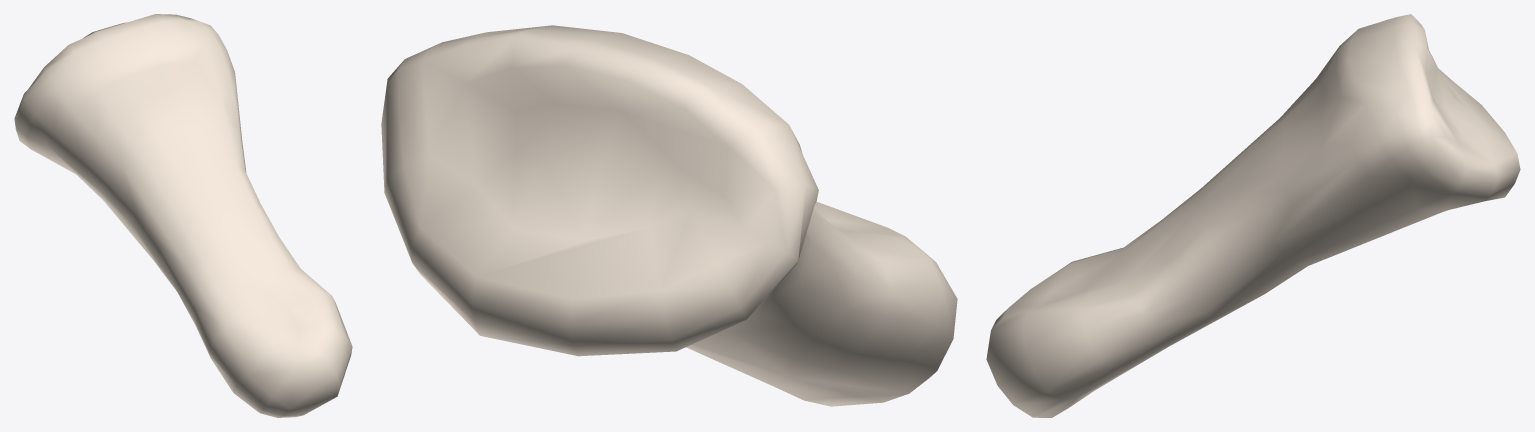
The model's file is left_digit_3_distal.glb.
3 views of the same model, side by side, from view 1: azimuth 30°, elevation 25°; view 2: azimuth 150°, elevation 25°; view 3: azimuth 270°, elevation 25° (orthographic). The views are drawn at different scales.
Visible parts, largest first — view 1: Distal phalanx of 3d finger.r; view 2: Distal phalanx of 3d finger.r; view 3: Distal phalanx of 3d finger.r.
Part boxes in pixels (<box>): Distal phalanx of 3d finger.r: <box>14,14,352,417</box>; Distal phalanx of 3d finger.r: <box>381,25,957,406</box>; Distal phalanx of 3d finger.r: <box>986,14,1520,417</box>.
Bounding box in the file's own units: 0.00965 × 0.013 × 0.0176.
